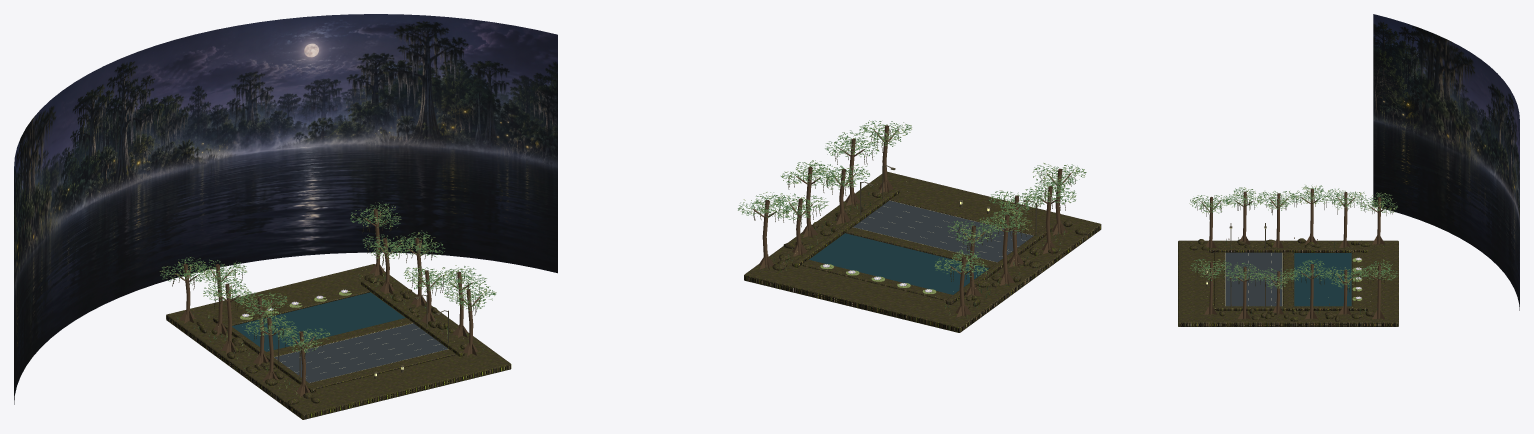
The model's file is world-vlow.glb.
3 views of the same model, side by side, from view 1: azimuth 30°, elevation 25°; view 2: azimuth 150°, elevation 25°; view 3: azimuth 270°, elevation 25° (orthographic). The views are drawn at different scales.
Visible parts, largest first — view 1: Distant bayou cyclorama, terrain, Five-lane road, Moonlit river surface, Grassy safe bank 0, Grassy safe bank 6, right-berm, Grassy safe bank 12, left-berm; view 2: terrain, Moonlit river surface, Five-lane road, Grassy safe bank 6, Grassy safe bank 0, Grassy safe bank 12, right-berm, left-berm; view 3: Distant bayou cyclorama, terrain, Five-lane road, Moonlit river surface, left-berm, right-berm, Grassy safe bank 6, Grassy safe bank 0, Grassy safe bank 12.
Boxes of the visible parts, x1,y1,x2,y2 form: Distant bayou cyclorama: [14, 14, 557, 404]; terrain: [166, 264, 511, 419]; Five-lane road: [274, 323, 447, 382]; Moonlit river surface: [232, 292, 405, 351]; Grassy safe bank 0: [309, 349, 455, 388]; Grassy safe bank 6: [267, 318, 412, 356]; right-berm: [361, 280, 464, 356]; Grassy safe bank 12: [224, 286, 369, 325]; left-berm: [213, 316, 316, 392]; terrain: [744, 171, 1101, 332]; Moonlit river surface: [809, 233, 988, 294]; Five-lane road: [853, 200, 1033, 262]; Grassy safe bank 6: [845, 227, 996, 268]; Grassy safe bank 0: [890, 195, 1041, 235]; Grassy safe bank 12: [801, 259, 952, 300]; right-berm: [792, 188, 899, 267]; left-berm: [945, 226, 1052, 304]; Distant bayou cyclorama: [1373, 14, 1519, 310]; terrain: [1178, 240, 1398, 326]; Five-lane road: [1225, 252, 1282, 306]; Moonlit river surface: [1294, 253, 1351, 306]; left-berm: [1209, 248, 1367, 252]; right-berm: [1213, 306, 1367, 310]; Grassy safe bank 6: [1283, 252, 1293, 306]; Grassy safe bank 0: [1214, 252, 1224, 306]; Grassy safe bank 12: [1352, 252, 1362, 306].
Size of the model in its own units: 57.25 by 24 by 38.7.
Materials: 12 (3 with a texture image).
